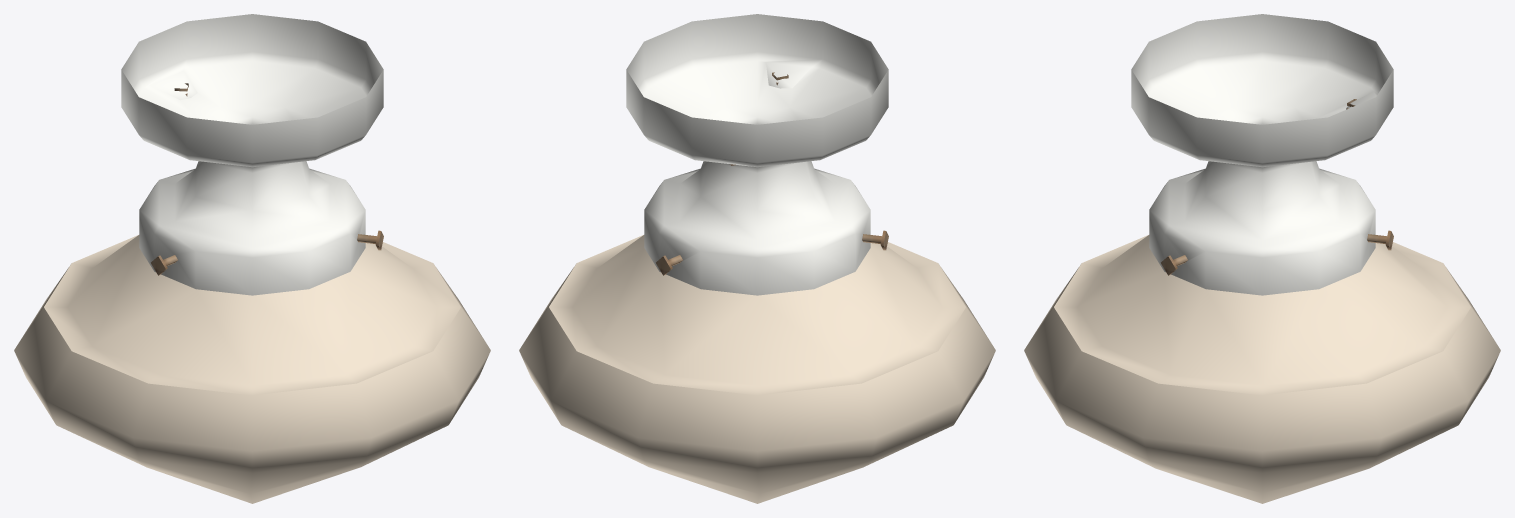
File: CeilingLamp.FBX
3 views of the same model, side by side, from view 1: azimuth 30°, elevation 25°; view 2: azimuth 150°, elevation 25°; view 3: azimuth 270°, elevation 25° (orthographic).
Parts seen in each view (by area): view 1: Mesh6, Mesh7; view 2: Mesh6, Mesh7; view 3: Mesh6, Mesh7.
Boxes of the visible parts, box(x1,y1,x2,y2) form: Mesh6: box(14, 235, 490, 503); Mesh7: box(121, 14, 383, 295); Mesh6: box(519, 235, 995, 503); Mesh7: box(626, 14, 888, 295); Mesh6: box(1024, 235, 1500, 503); Mesh7: box(1131, 14, 1393, 295).
Size of the model in its own units: 21.22 by 21.22 by 21.22.
